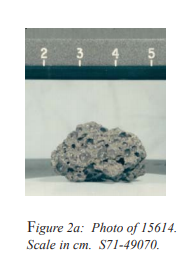Basalt: (41, 105, 150, 185)
